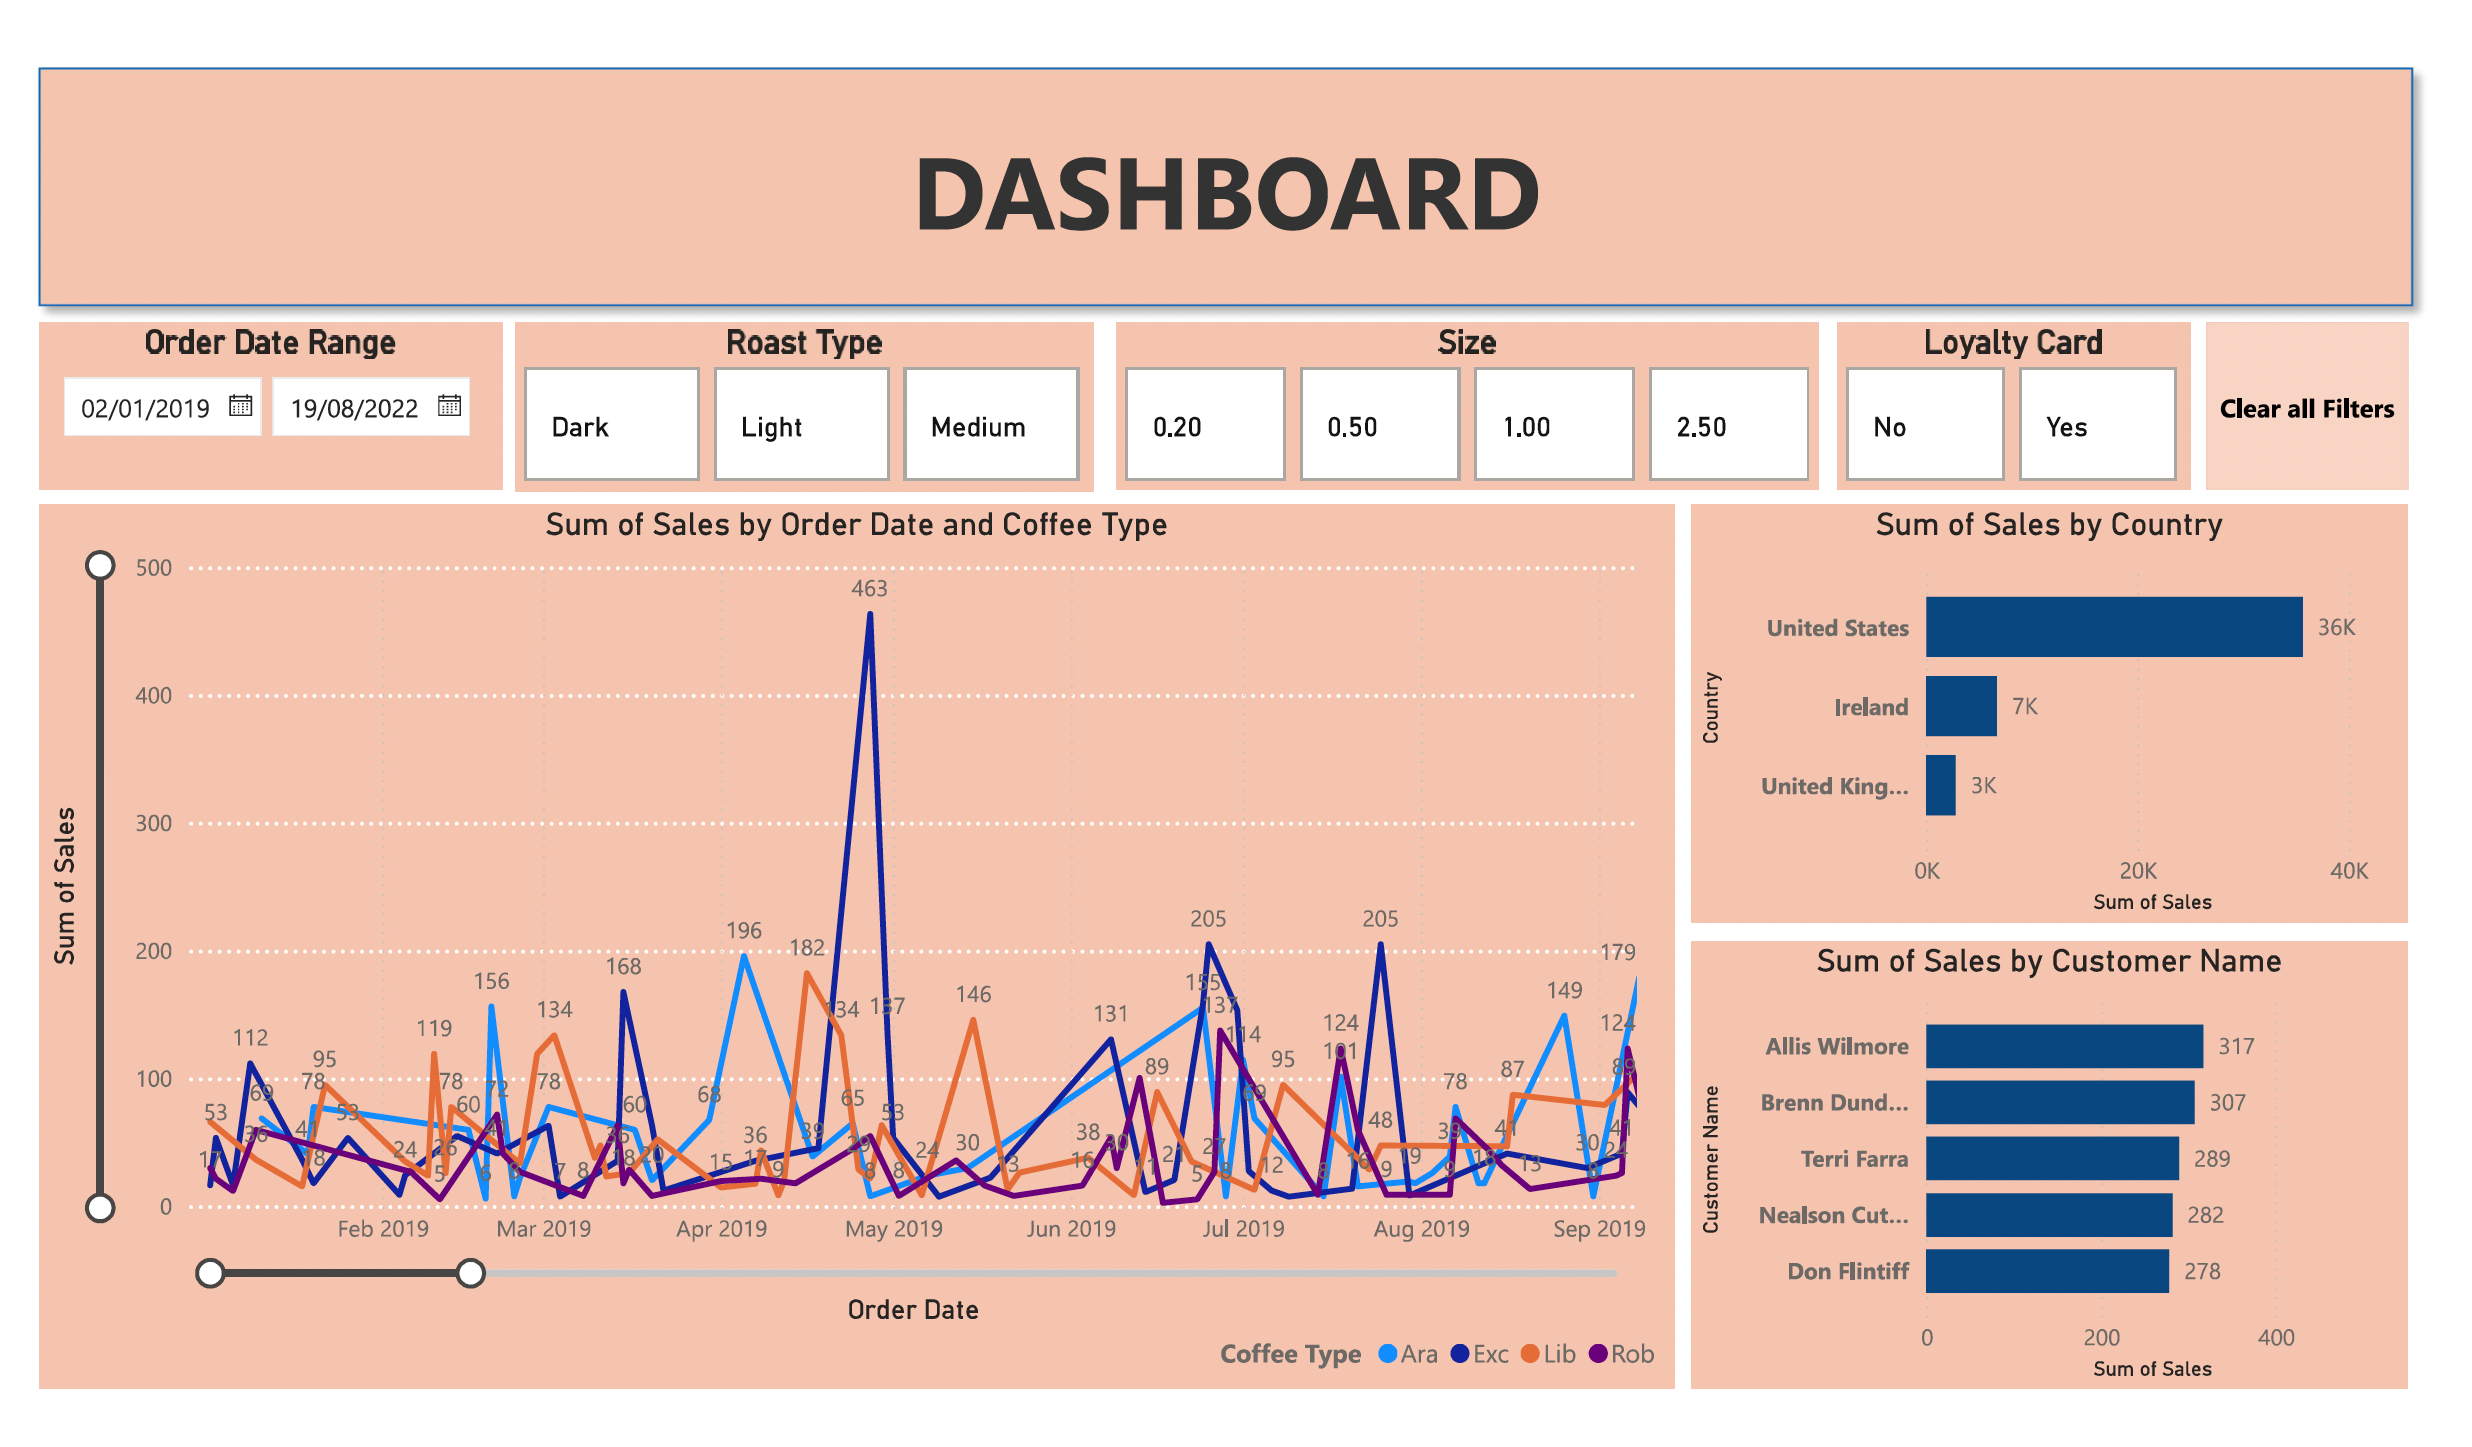

Layout of this report page (visuals, bound fields, positions):
{"tool":"powerbi","page":{"name":"Page 1","canvas":[1280,720],"ordinal":0},"visuals":[{"type":"shape","box":[9.7,0,1270.3,143],"z":0},{"type":"slicer","title":"Order Date Range","fields":{"Values":["Orders.Order Date"]},"box":[19.5,143,243.2,88.5],"z":1000},{"type":"advancedSlicerVisual","fields":{"Values":["Orders.Size"]},"box":[586.5,143,370.6,88.5],"z":2000},{"type":"advancedSlicerVisual","fields":{"Values":["Orders.Loyalty Card"]},"box":[966.8,143,185.8,88.5],"z":3000},{"type":"lineChart","fields":{"Category":["Orders.Order Date"],"Y":["Orders.Sales"],"Series":["Products.Coffee Type"]},"box":[19.5,239.3,861.8,465.9],"z":4000},{"type":"barChart","fields":{"Category":["Orders.Country"],"Y":["Orders.Sales"]},"box":[890,239.3,378.4,219.8],"z":5000},{"type":"barChart","fields":{"Category":["Orders.Customer Name"],"Y":["Orders.Sales"]},"box":[890,468.8,378.4,236.4],"z":6000},{"type":"advancedSlicerVisual","fields":{"Values":["Orders.Roast Type"]},"box":[270.5,143.1,304.6,88.6],"z":7000},{"type":"actionButton","box":[1162.3,143,106,88.5],"z":8000}]}

Visuals, with their boxes on the page's 1280x720 design canvas (x1, y1, x2, y2). These are canvas units, not pixel positions in the 2472x1447 screenshot, which may show the page scaled, cropped or inside an application window:
shape: [10, 0, 1280, 143]
"Order Date Range" slicer: [20, 143, 263, 232]
advancedSlicerVisual - Orders.Size: [586, 143, 957, 232]
advancedSlicerVisual - Orders.Loyalty Card: [967, 143, 1153, 232]
lineChart - Orders.Order Date x Orders.Sales: [20, 239, 881, 705]
barChart - Orders.Country x Orders.Sales: [890, 239, 1268, 459]
barChart - Orders.Customer Name x Orders.Sales: [890, 469, 1268, 705]
advancedSlicerVisual - Orders.Roast Type: [270, 143, 575, 232]
actionButton: [1162, 143, 1268, 232]
